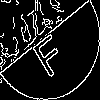F: (25, 25, 70, 80)
